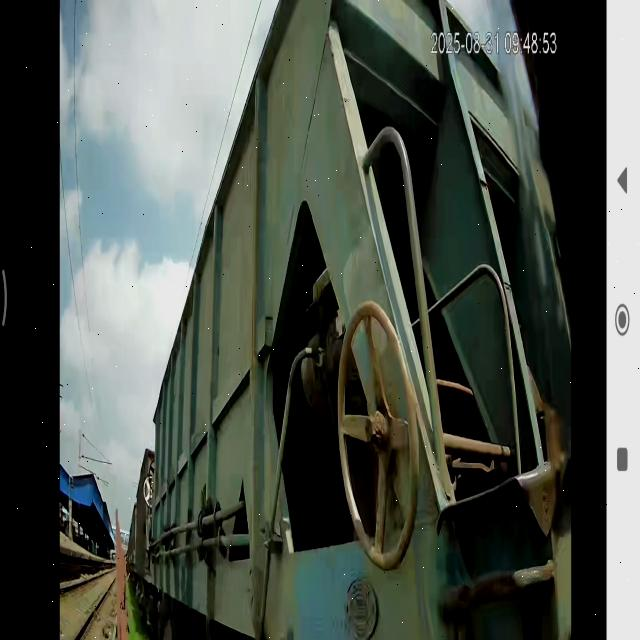coach: (155, 0, 354, 640)
